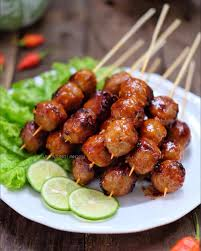bakso: (28, 58, 189, 210)
